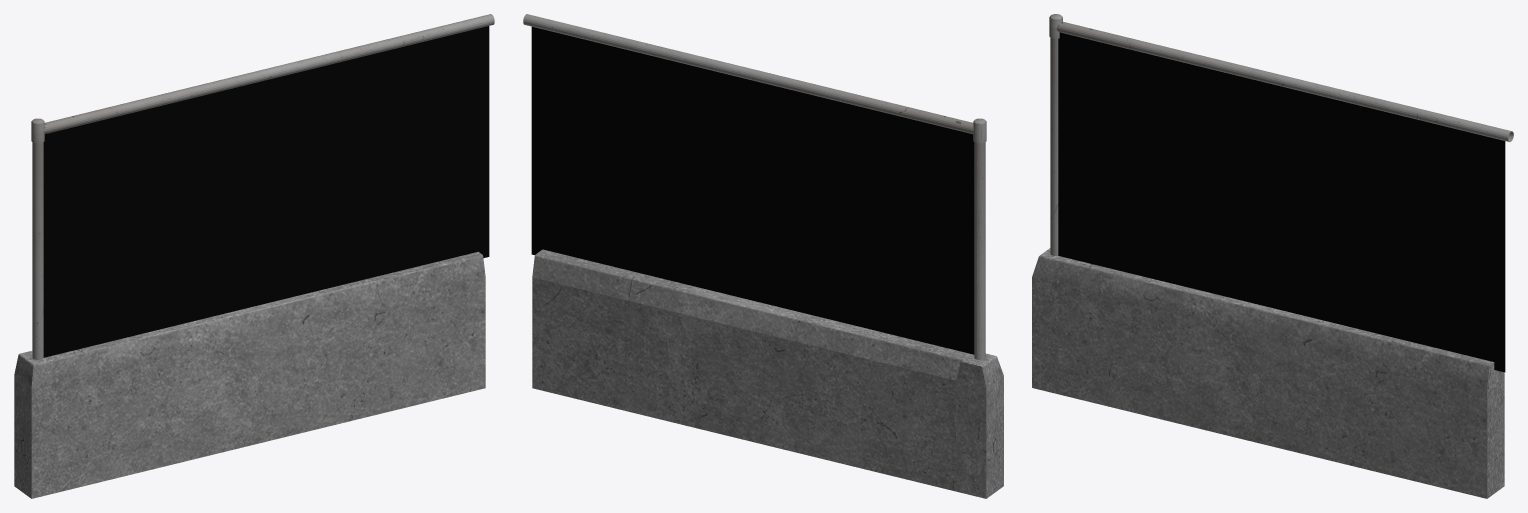
The model's file is chain_wall_corner_ccw.fbx.
3 views of the same model, side by side, from view 1: azimuth 30°, elevation 25°; view 2: azimuth 150°, elevation 25°; view 3: azimuth 330°, elevation 25° (orthographic).
Visible parts, largest first — view 1: chain_wall_corner_ccw; view 2: chain_wall_corner_ccw; view 3: chain_wall_corner_ccw.
Boxes of the visible parts, left/top/right/bottom form: chain_wall_corner_ccw: left=14, top=14, right=494, bottom=498; chain_wall_corner_ccw: left=523, top=14, right=1003, bottom=498; chain_wall_corner_ccw: left=1032, top=14, right=1513, bottom=498.
Bounding box in the file's own units: 3.1 × 2.33 × 0.2.
2 materials, 2 textured.
